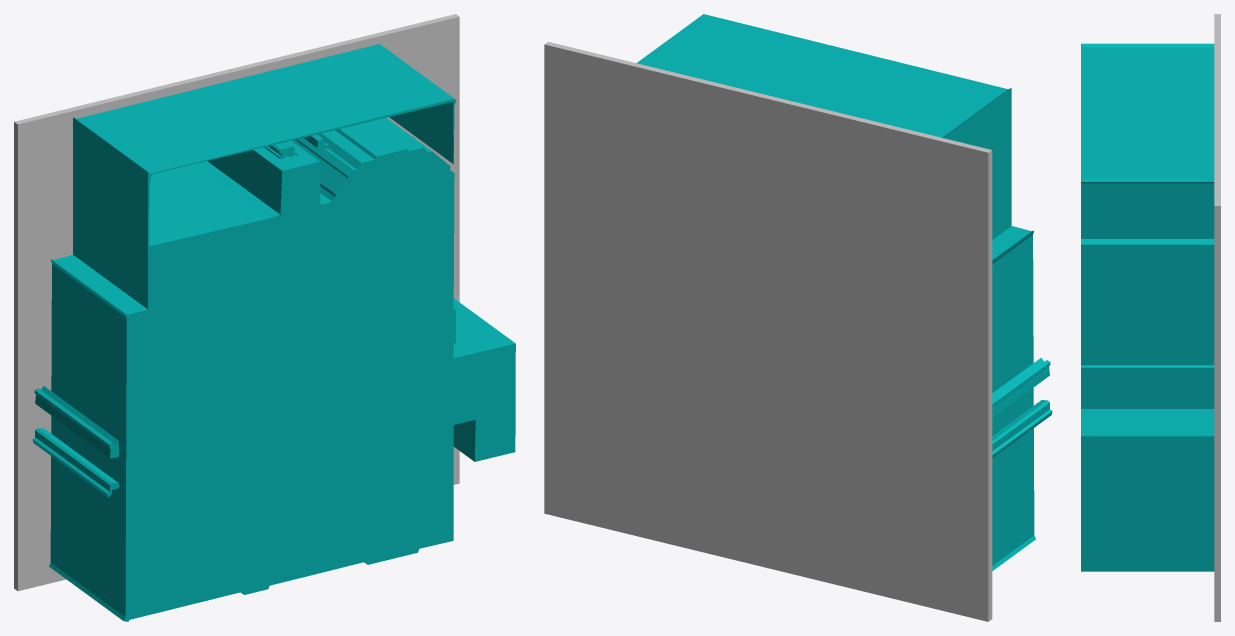
The picture shows the model from 3 angles, left to right: view 1: azimuth 30°, elevation 25°; view 2: azimuth 150°, elevation 25°; view 3: azimuth 270°, elevation 25°; orthographic projection. The views are drawn at different scales.
Parts seen in each view (by area): view 1: world; view 2: world; view 3: world.
Boxes of the visible parts, x1,y1,x2,y2 form: world: [14, 14, 515, 621]; world: [544, 14, 1052, 621]; world: [1081, 14, 1220, 621].
Size of the model in its own units: 10.23 by 10.33 by 3.15.
